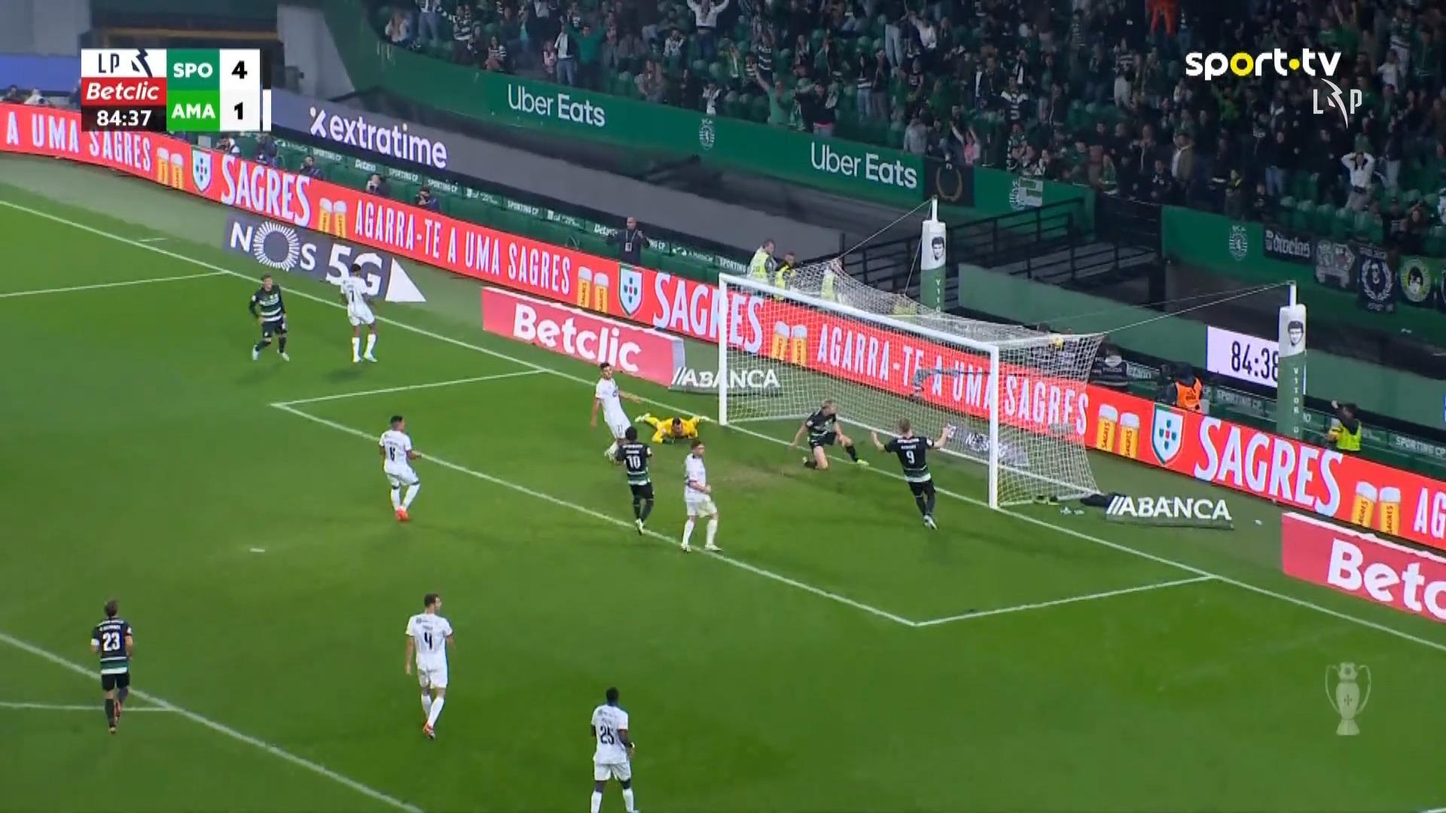goalkeeper: (633, 411, 702, 444)
player: (869, 416, 956, 530), (402, 592, 455, 739), (588, 686, 640, 811), (89, 598, 135, 734), (788, 397, 868, 471), (590, 361, 642, 464), (377, 414, 423, 521), (679, 440, 722, 553), (612, 425, 654, 535), (338, 261, 379, 364), (248, 273, 290, 361)
